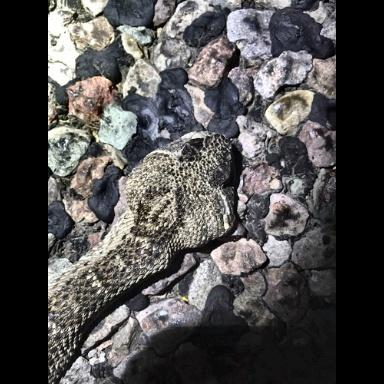snake: (45, 121, 252, 373)
